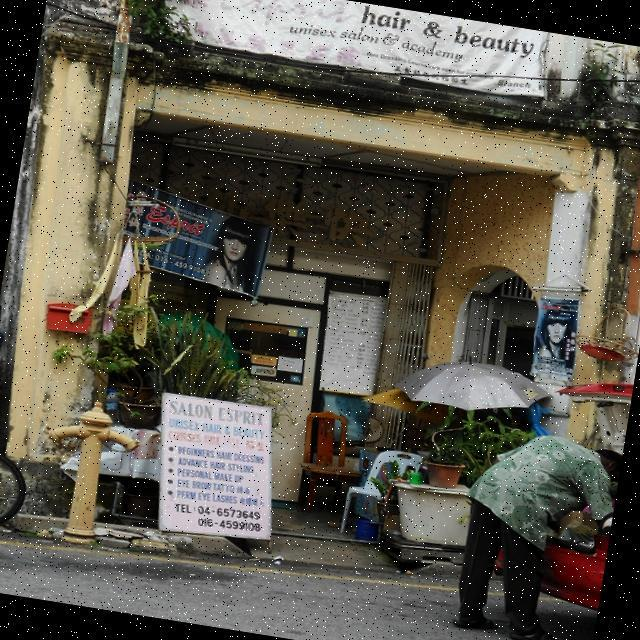fire_hydrant: (32, 392, 146, 556)
